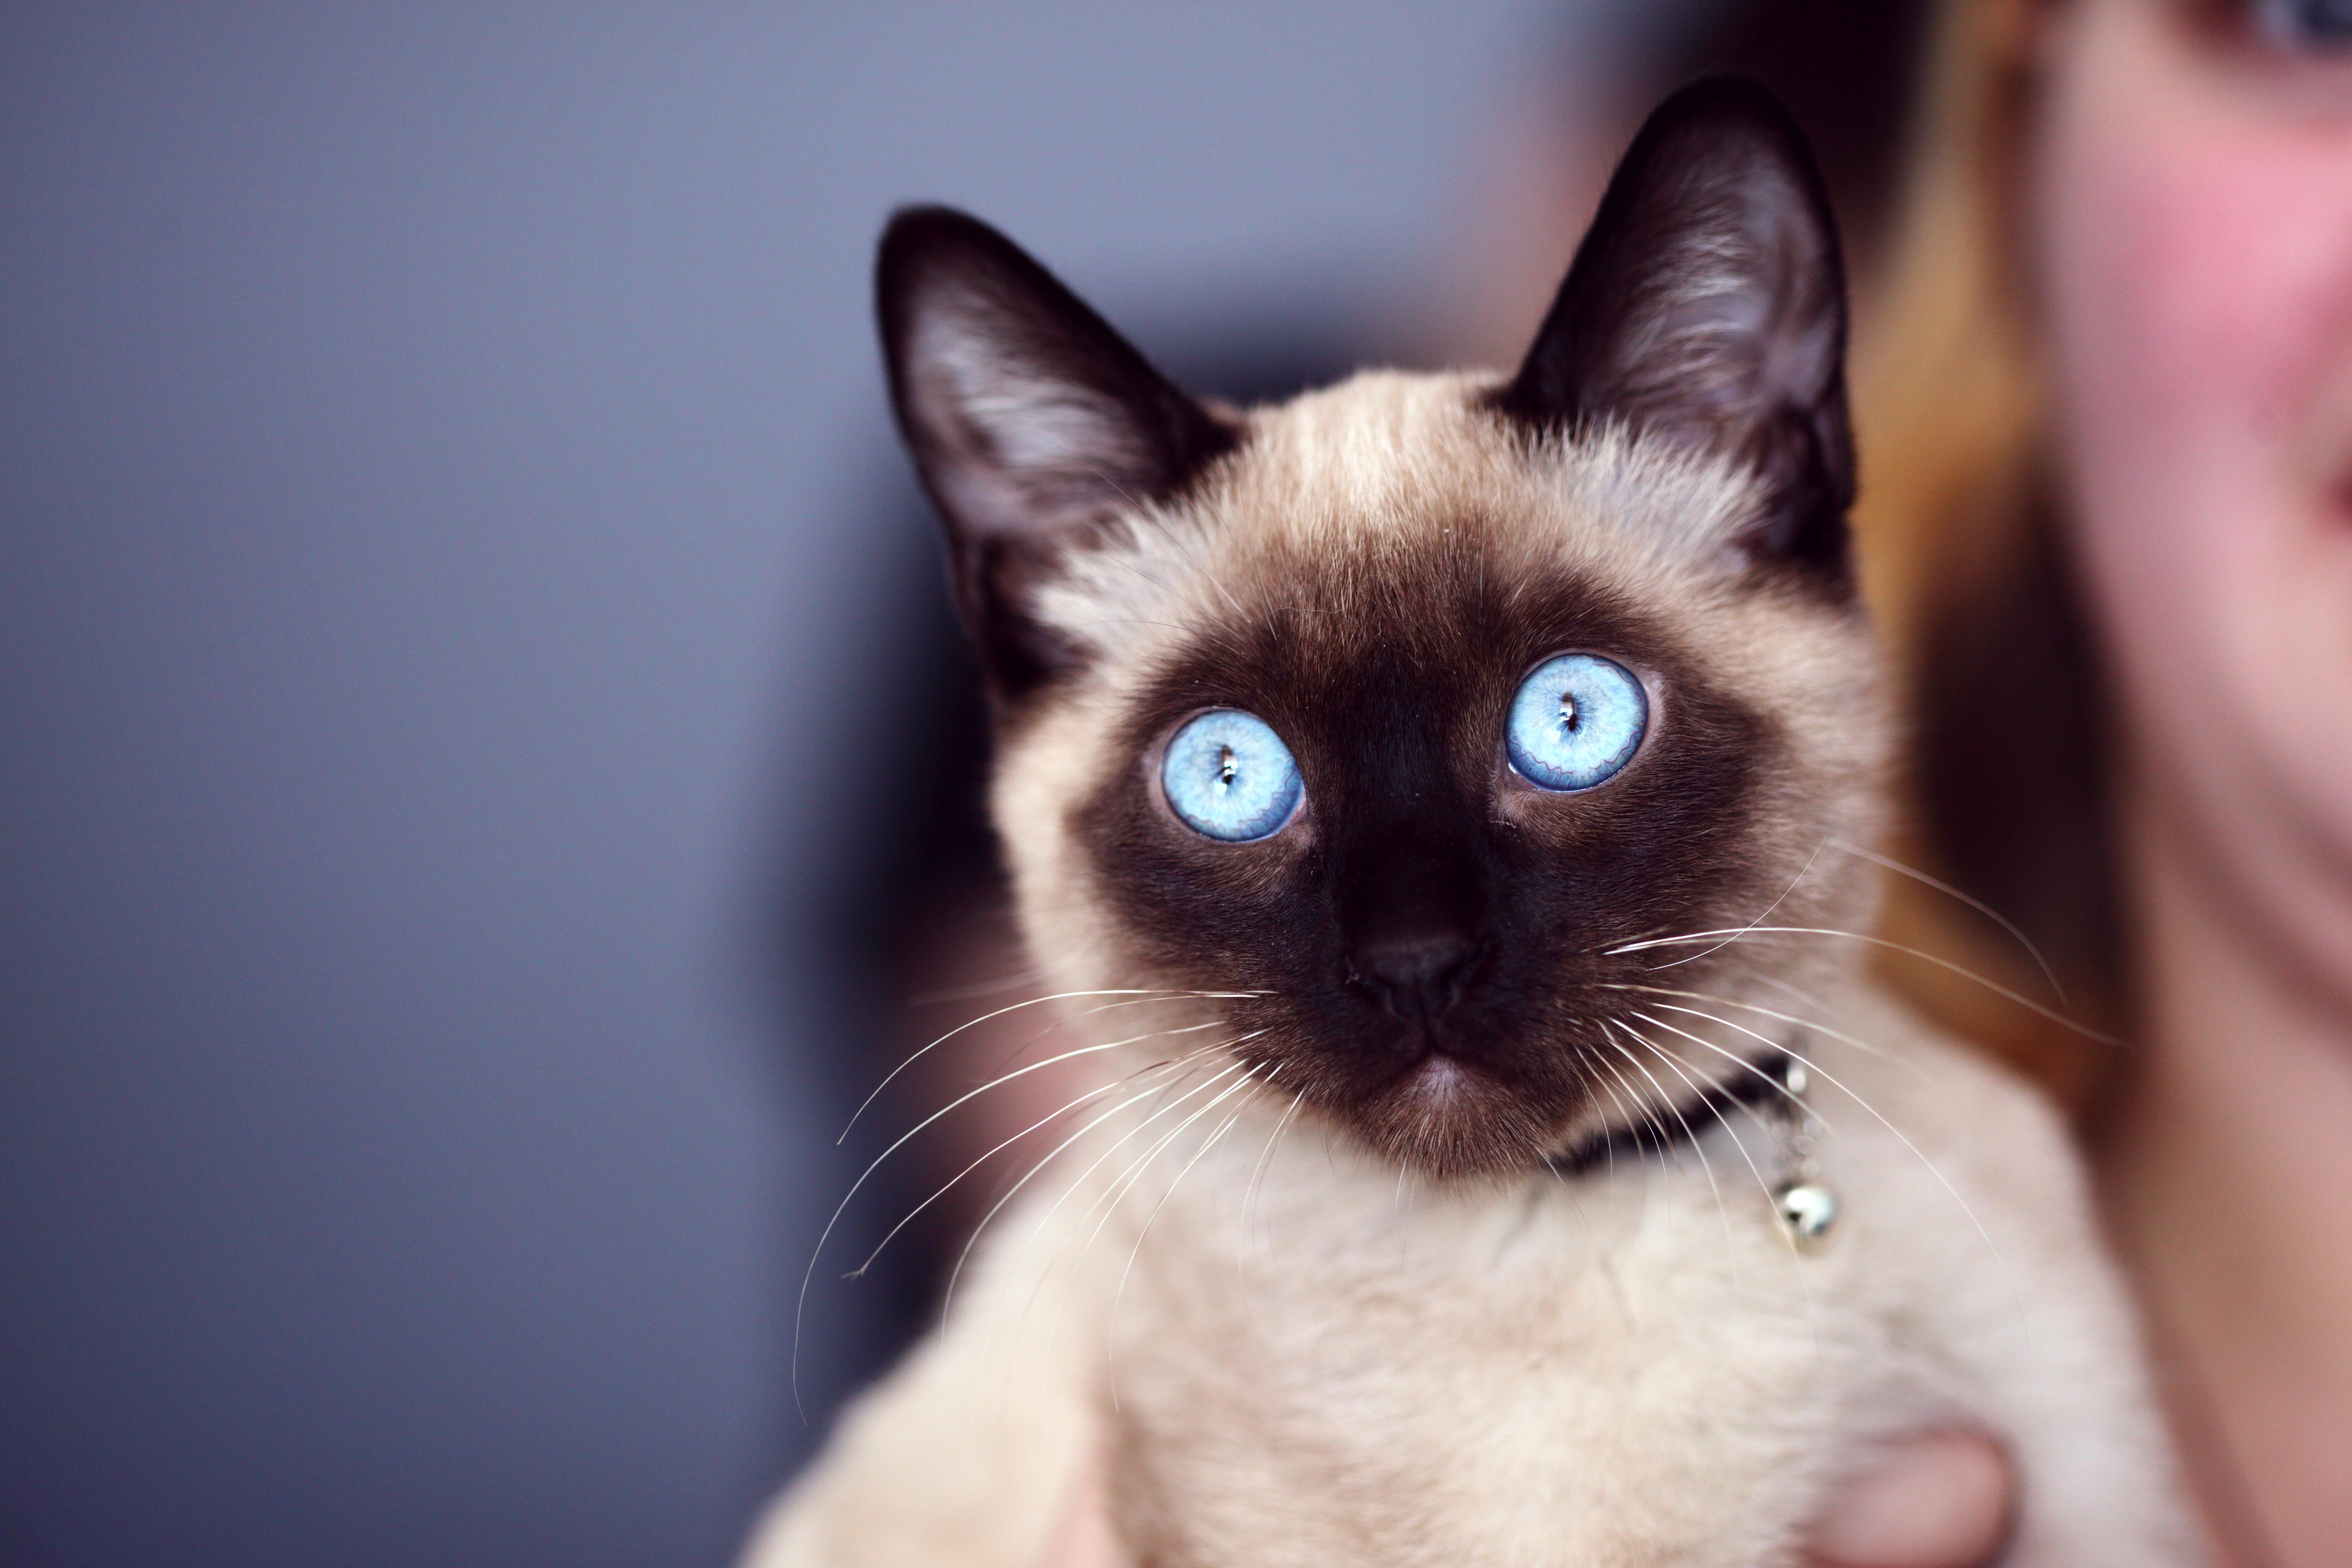siamese: (854, 58, 1908, 1211)
